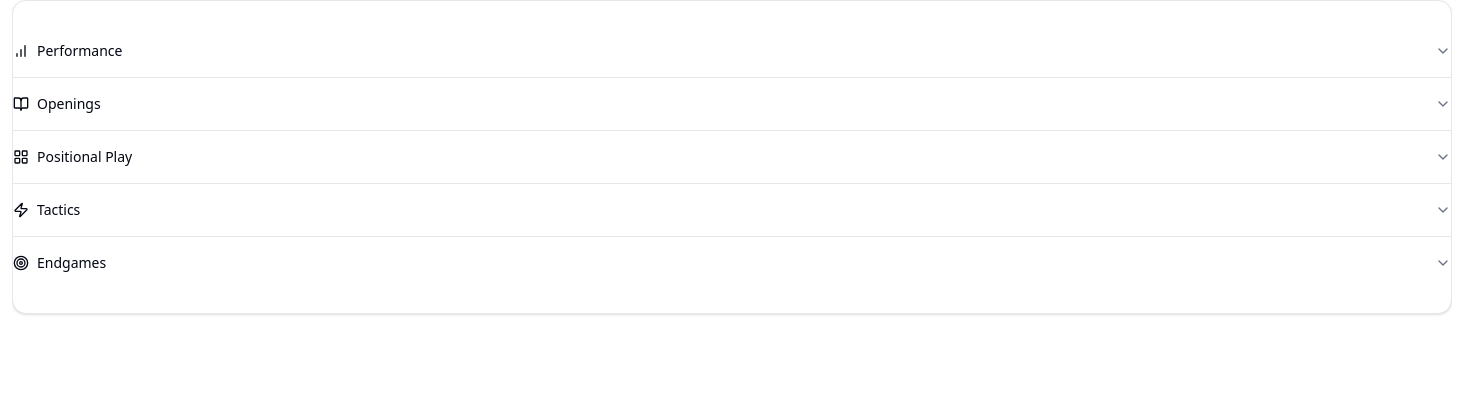
InsightNavigation › renders all insights when group is expanded
Click the button "Performance" at (80, 50), box [13, 25, 1451, 77]
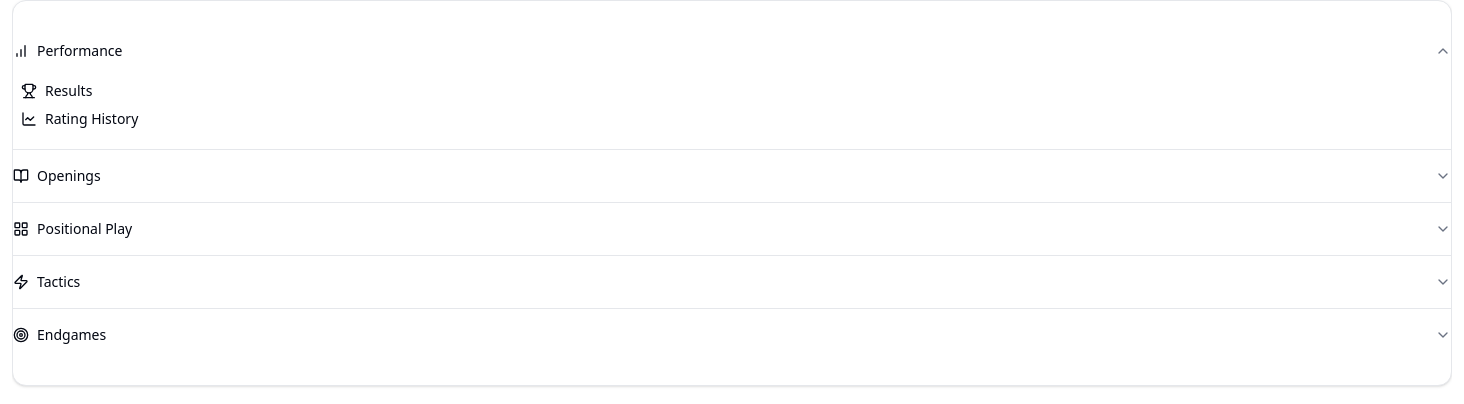
Now the link "Results" is shown, box [21, 81, 92, 100]
Now the link "Rating History" is shown, box [21, 109, 138, 128]
